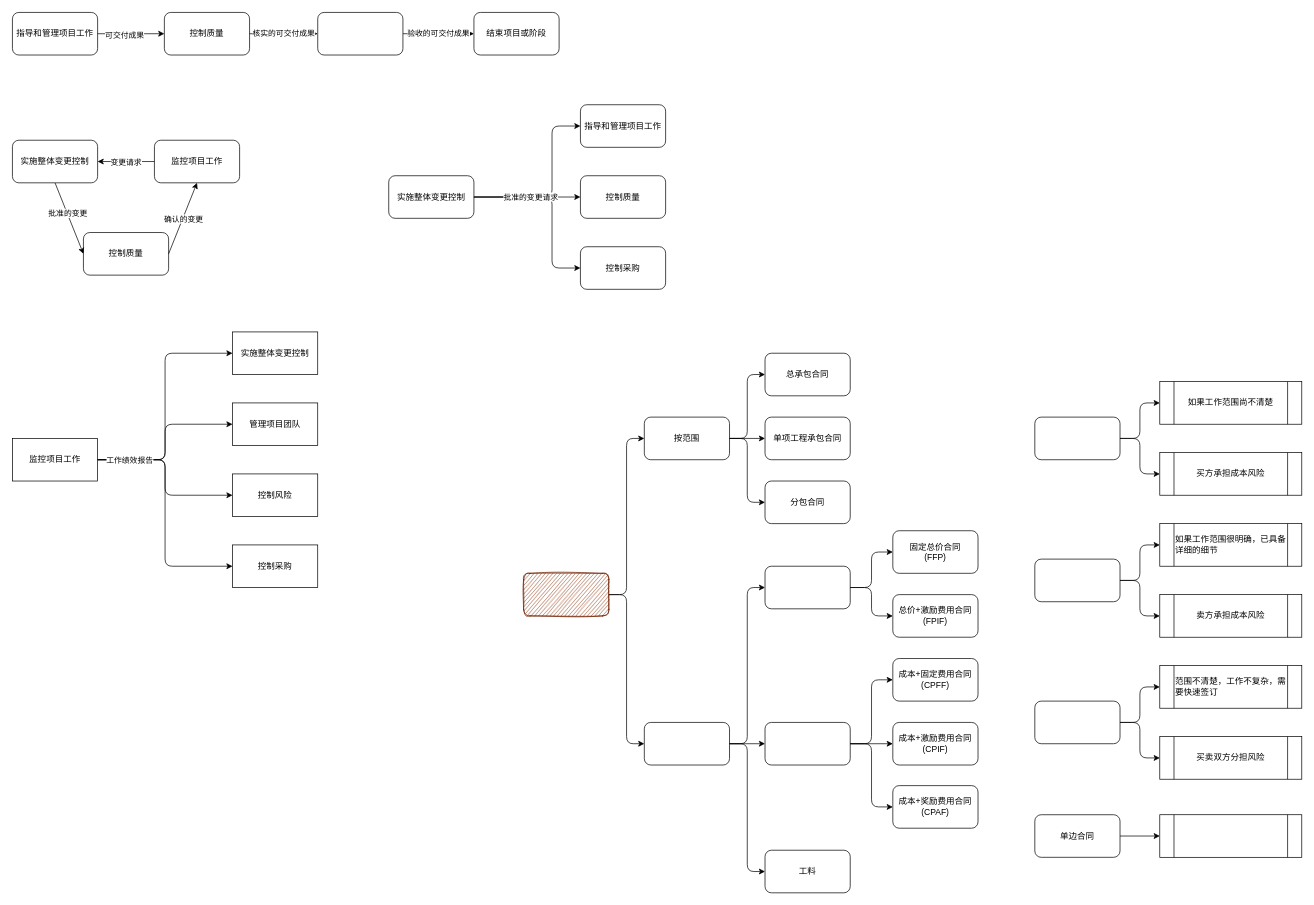
The diagram is 1314 pixels wide and 905 high, and some of its shapes have lost their labels. The centre of each missing label's shape, as x and y in pixels:
"合同" belongs at [566,594].
"如果购买的是标准产品，并且数量不大" belongs at [1230,835].
"工料合同" belongs at [1077,722].
"总价" belongs at [807,587].
"总价合同" belongs at [1077,580].
"成本补偿" belongs at [807,743].
"成本补偿合同" belongs at [1077,438].
"按付款" belongs at [687,743].
"确认范围" belongs at [360,33].
